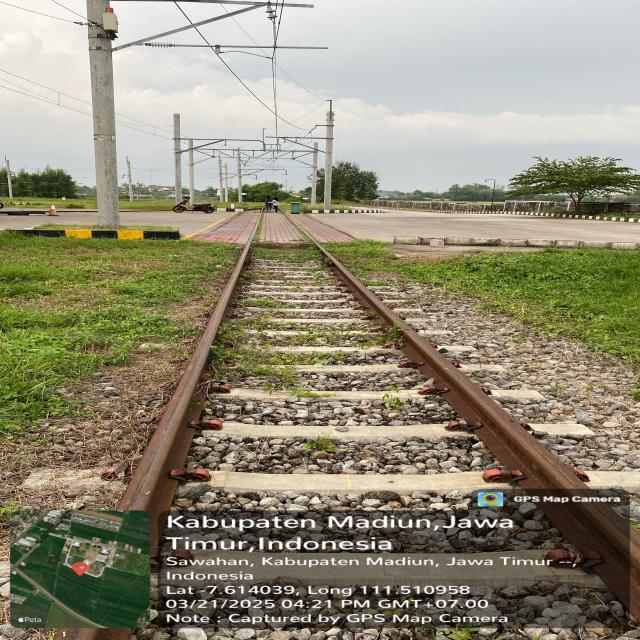rail-detection: (329, 255, 594, 511), (117, 240, 250, 547), (547, 503, 640, 610), (77, 629, 129, 640)
